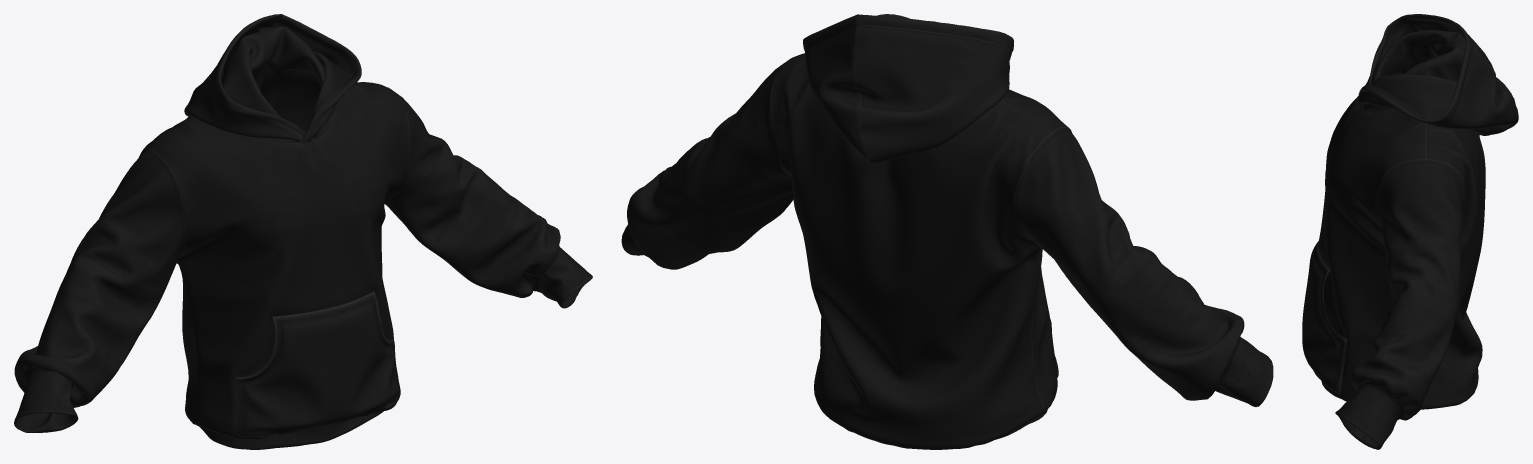
Rendered from hoddie.glb.
The picture shows the model from 3 angles, left to right: view 1: azimuth 30°, elevation 25°; view 2: azimuth 150°, elevation 25°; view 3: azimuth 270°, elevation 25°; orthographic projection. The views are drawn at different scales.
Visible parts, largest first — view 1: Hoodie_Part2, Hoodie_Part1; view 2: Hoodie_Part1, Hoodie_Part2; view 3: Hoodie_Part2, Hoodie_Part1.
Part boxes in pixels (<box>): Hoodie_Part2: <box>14,14,592,436</box>; Hoodie_Part1: <box>141,62,411,449</box>; Hoodie_Part1: <box>769,53,1071,449</box>; Hoodie_Part2: <box>621,14,1273,406</box>; Hoodie_Part2: <box>1302,14,1518,449</box>; Hoodie_Part1: <box>1318,95,1485,409</box>.
Bounding box in the file's own units: 1.27 × 0.794 × 0.4405.
Materials: 2 (2 with a texture image).
